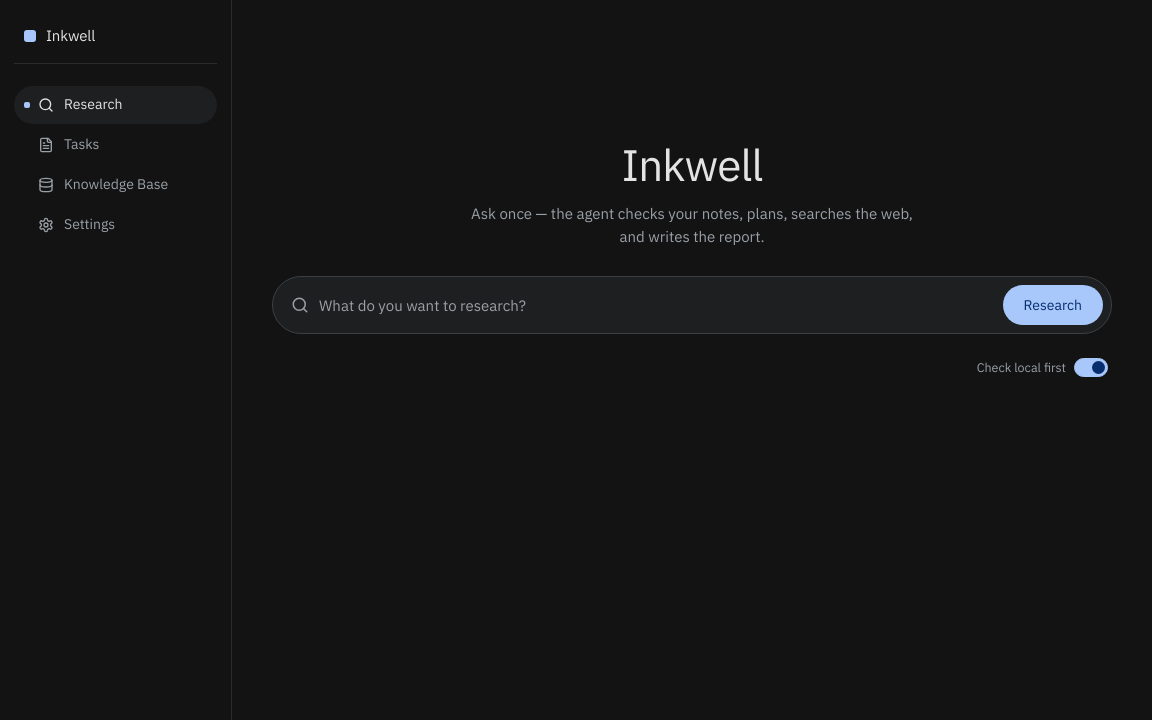
Test: App › lets unconfigured users use the Research page; submitting reports the config error
Expected: the heading "Inkwell" is shown, [622,136,763,193]
Expected: the link "Research" is shown, [14,86,217,124]
Type "my question" into the field named "Research question".
click(656, 305); type("my question")  # box [319,285,992,325]
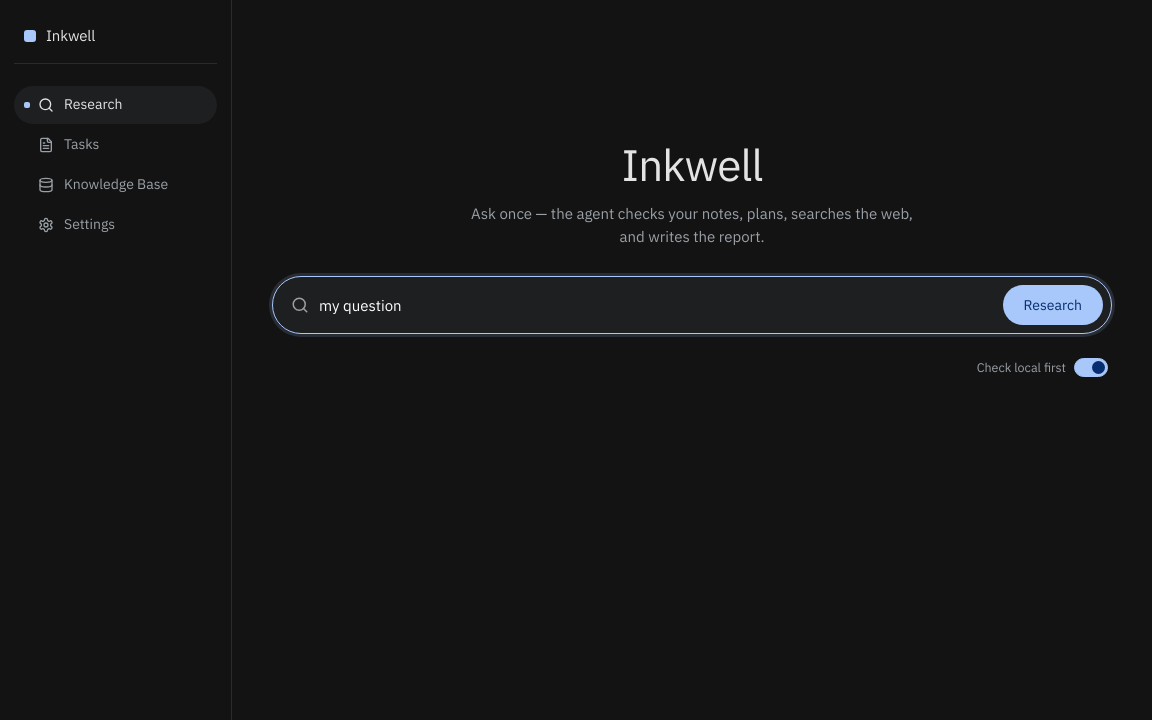
// Submitting without config reports the error instead of starting a task.
Click the button "Research".
click(1053, 305)  # box [1002,285,1103,325]
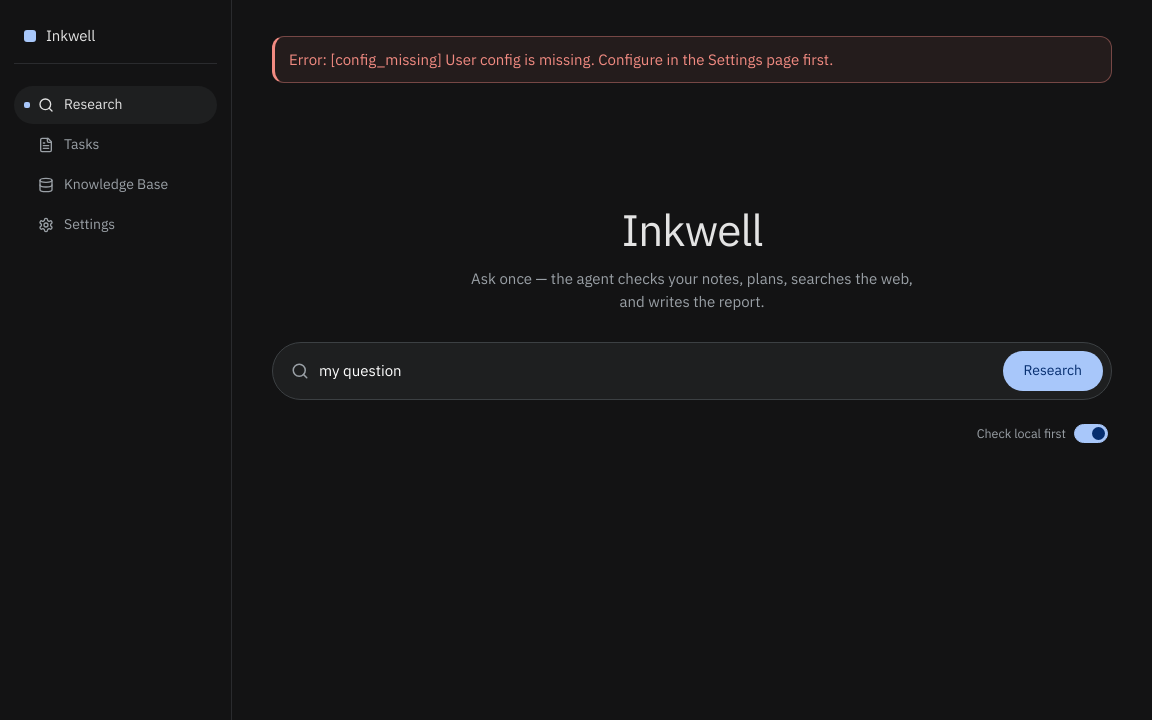
Expected: the text "config_missing" is shown, [289,50,833,69]
